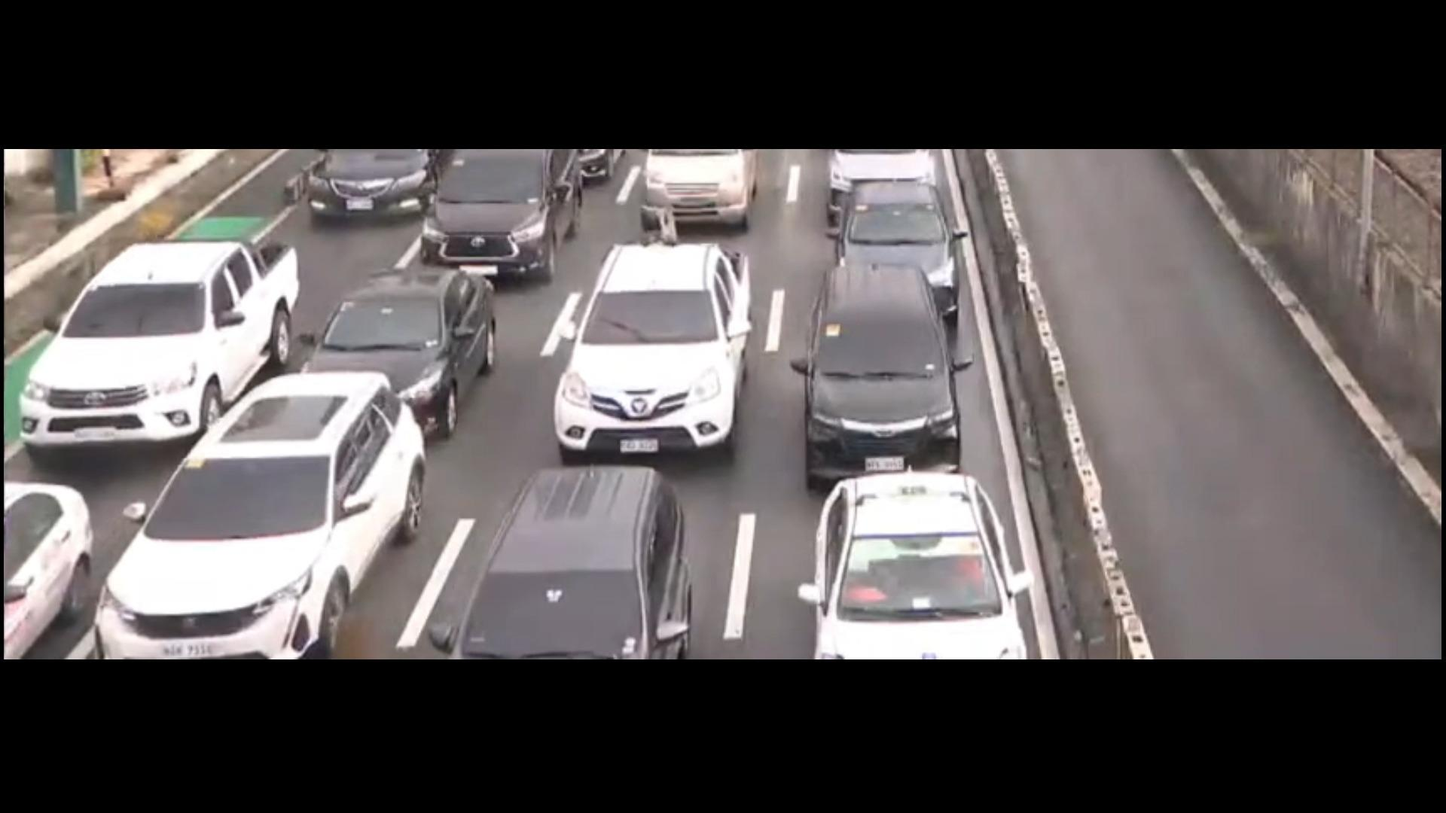Pickup: (18, 221, 315, 464), (533, 236, 757, 470)
SUV: (91, 369, 447, 657), (436, 467, 710, 663), (807, 450, 1043, 655), (787, 264, 961, 488), (414, 153, 571, 283)
Sedan: (305, 268, 501, 438), (816, 175, 978, 297)
